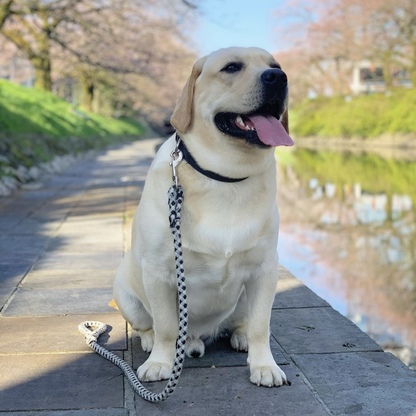labrado: (110, 43, 296, 390)
